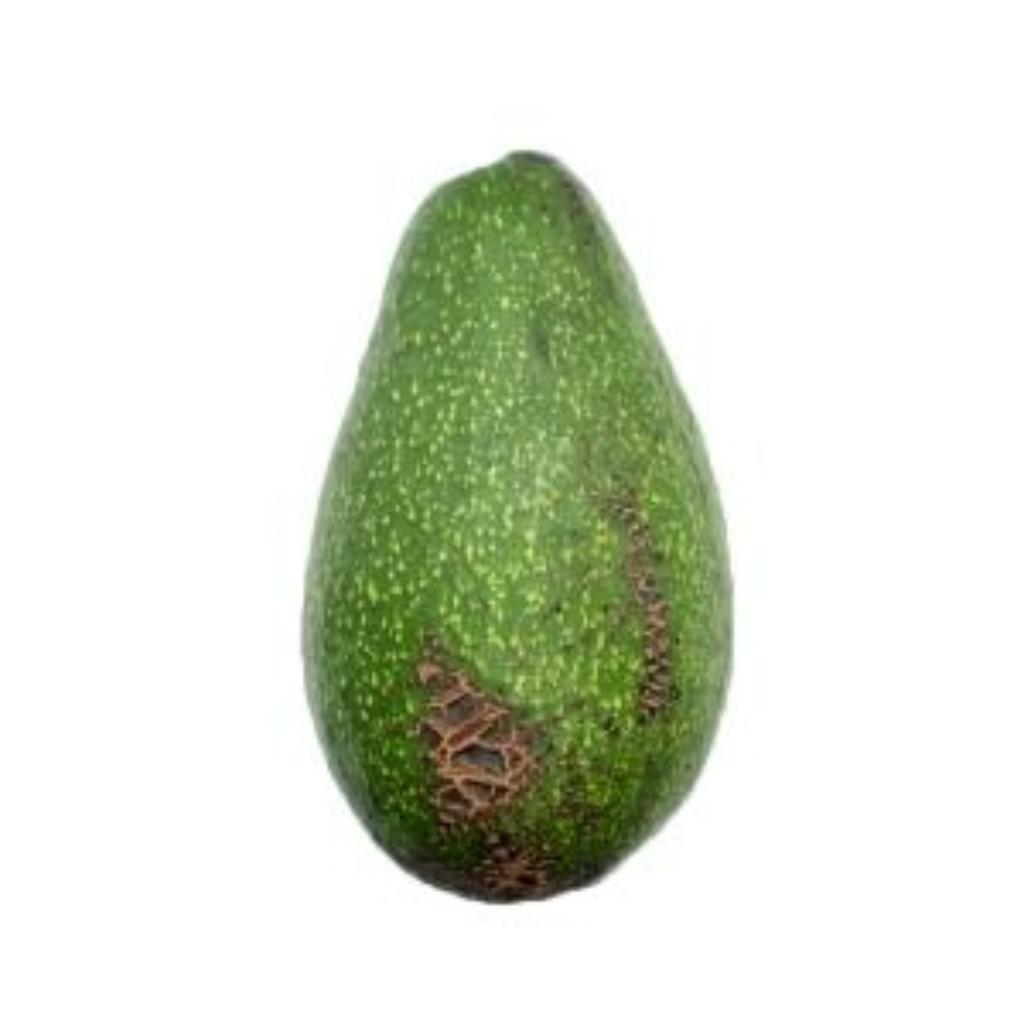cercospora: (293, 146, 761, 907)
